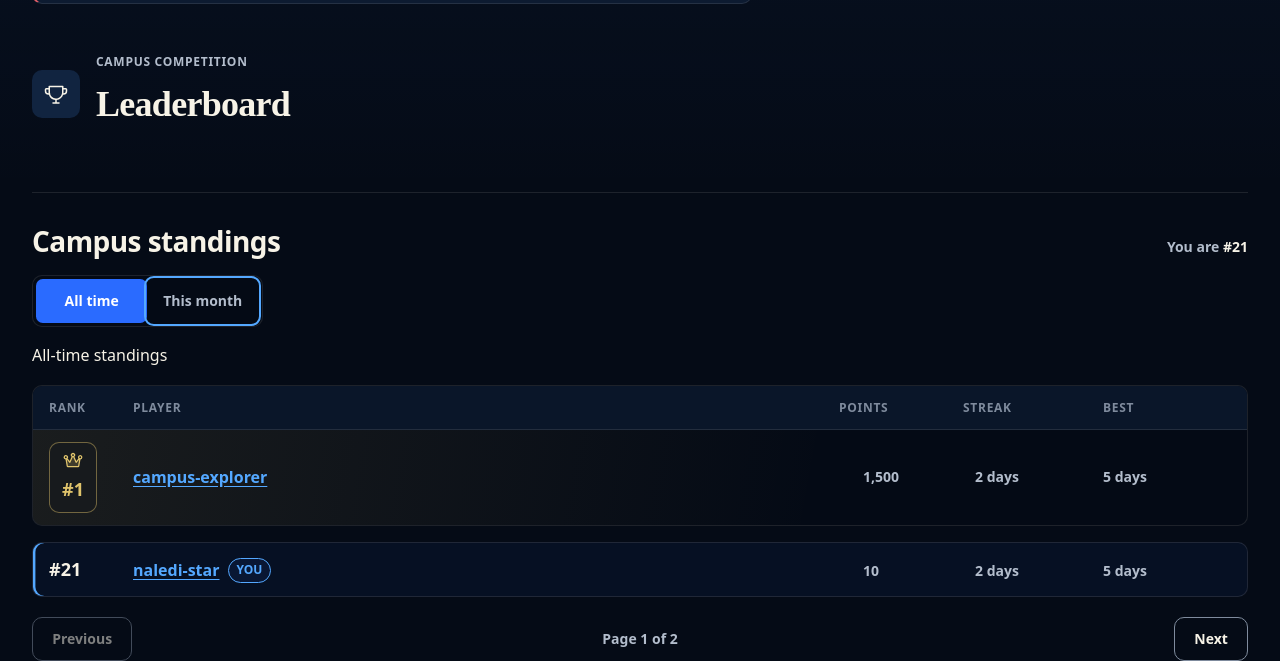
it: progression profile and standings page › applies a monthly filter and paginates with keyboard activation
The width and height of the screenshot is (1280, 661).
(page scrolled)
Expected: the heading "Campus standings" is shown, [32,225,280,259]
Expected: the element named "Your standing" shows "#21", [32,542,1248,596]
Press Enter
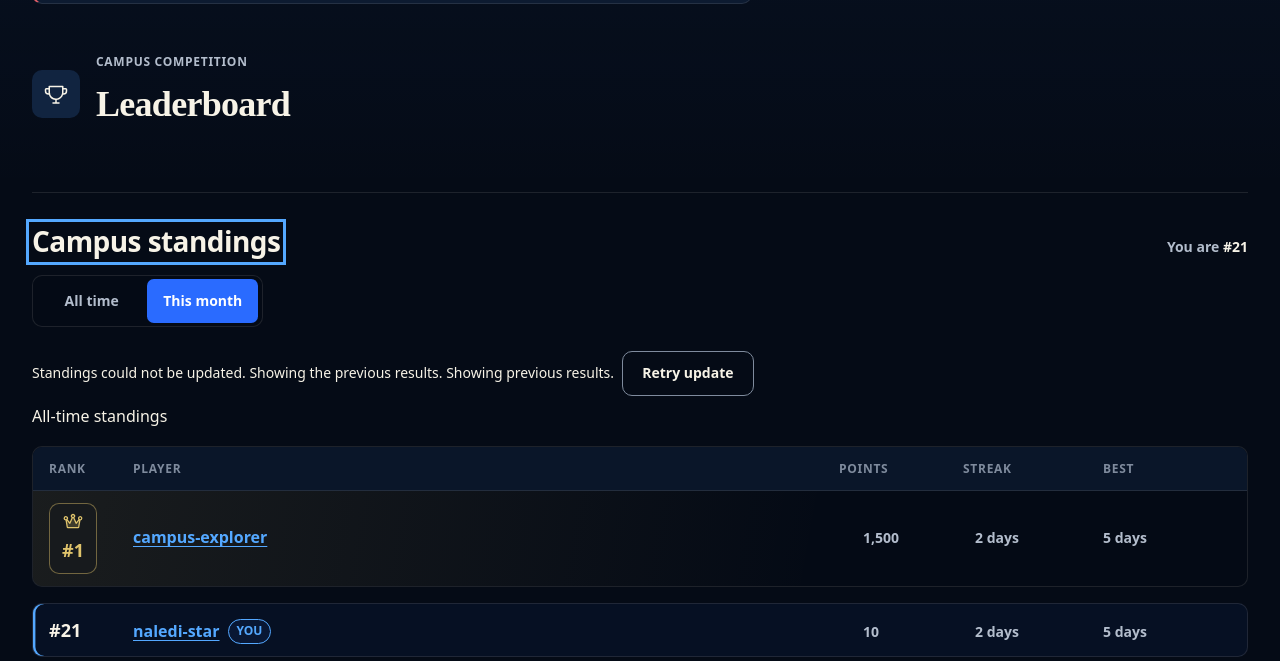
Result: the button "This month" is pressed at [147,279,258,323]
Click the button "All time" at (92, 301), box [36,279,147,323]
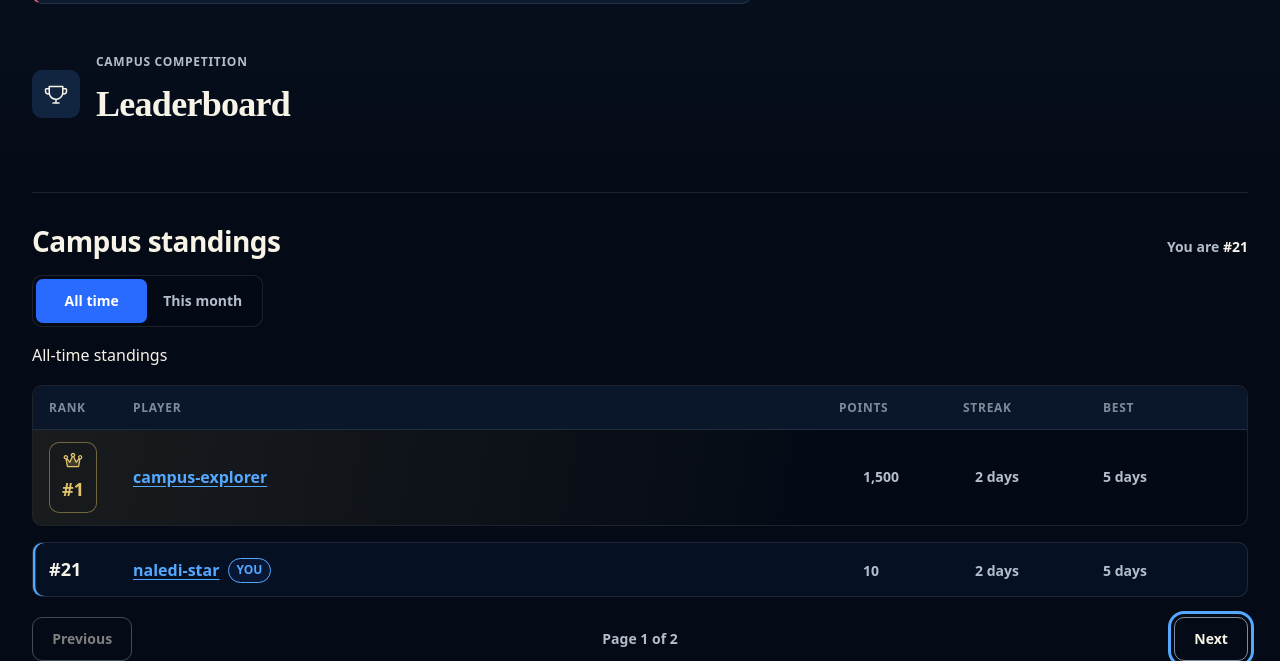
Press Enter
(page scrolled)
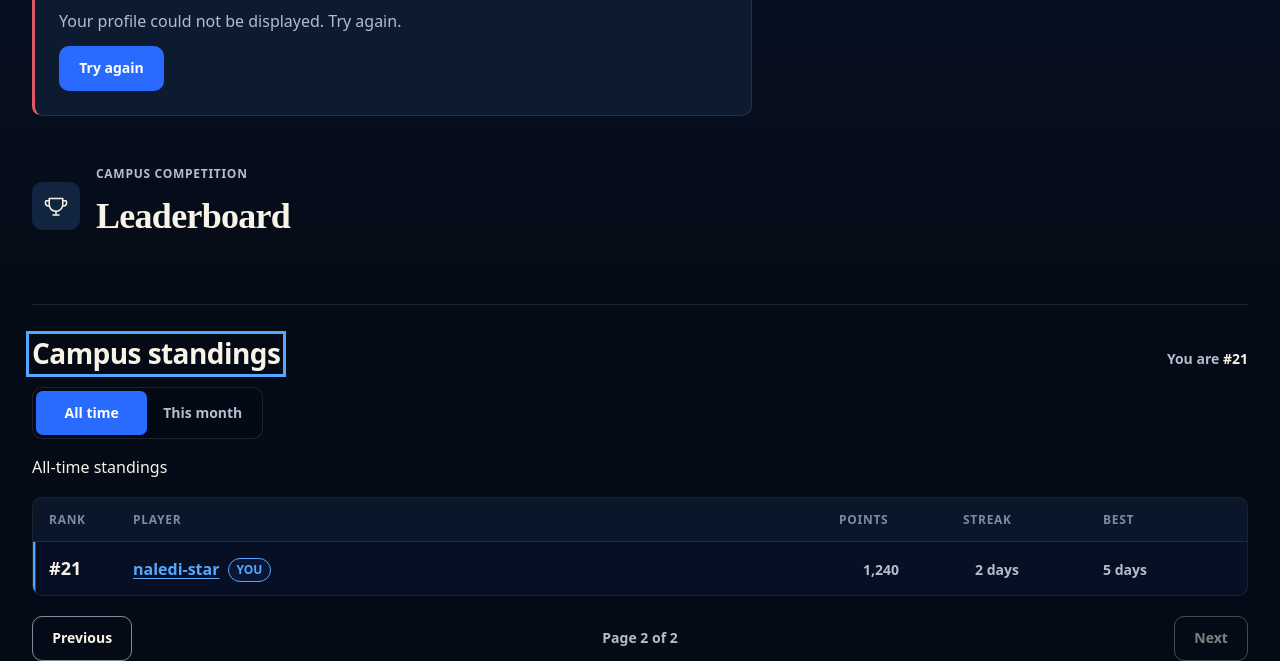
Result: the text "Page 2 of 2" is shown at [602,627,678,649]
